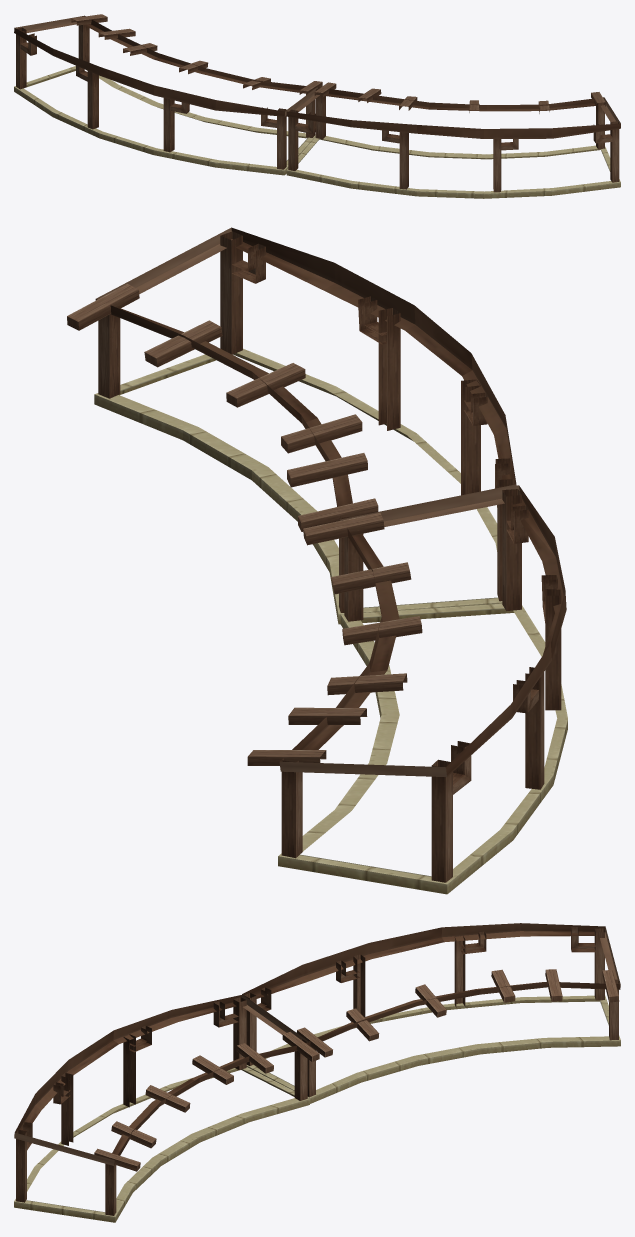
The model's file is Area_12_29.fbx.
3 views of the same model, one above another, from view 1: azimuth 30°, elevation 25°; view 2: azimuth 150°, elevation 25°; view 3: azimuth 270°, elevation 25° (orthographic). The views are drawn at different scales.
Parts seen in each view (by area): view 1: Area_12_29; view 2: Area_12_29; view 3: Area_12_29.
Part boxes in pixels (x1,y1,x2,y2): Area_12_29: (14,14,620,198); Area_12_29: (67,227,567,894); Area_12_29: (14,923,620,1222).
Bounding box in the file's own units: 3122 × 546 × 3577.
